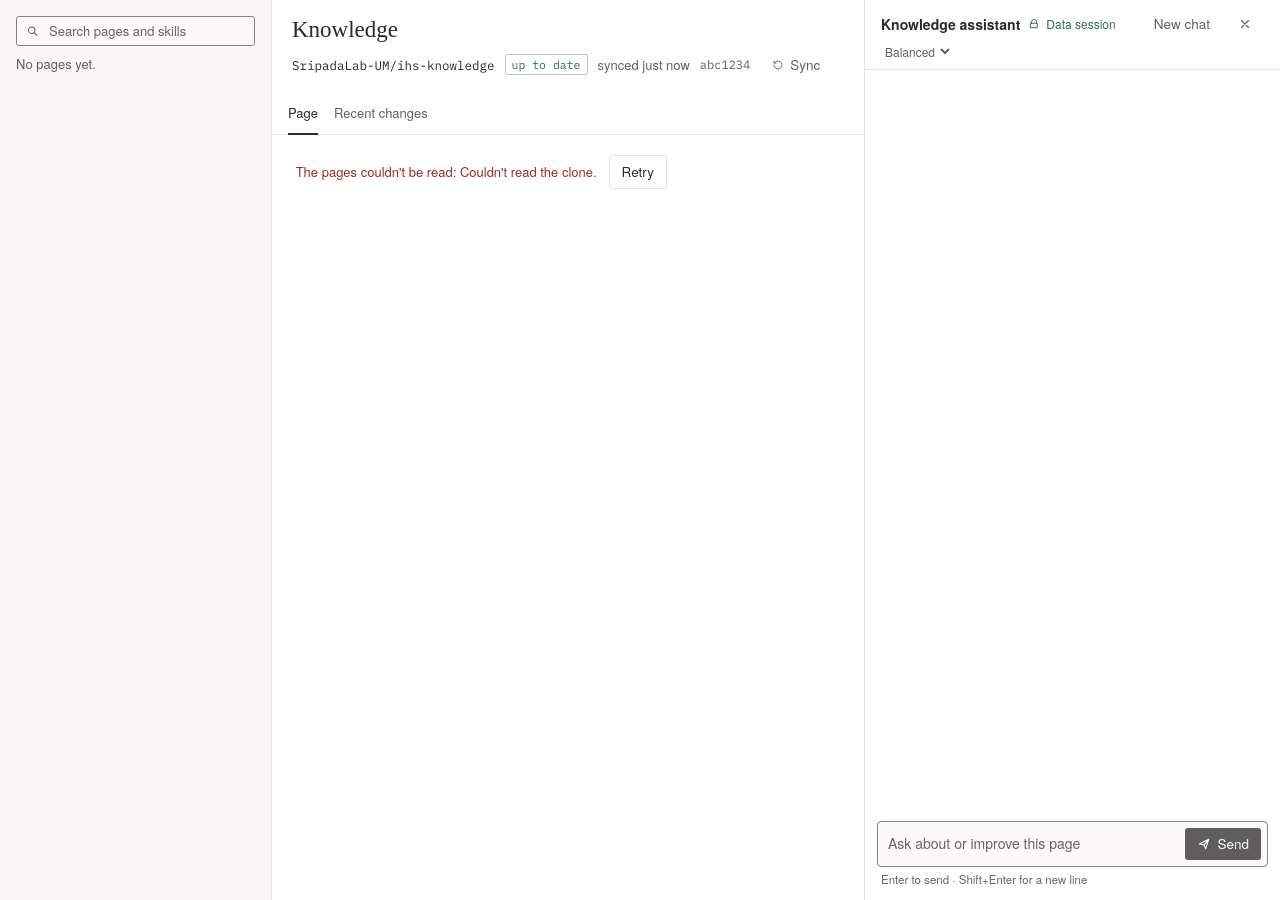
Test: says when the pages couldn't be read, and Retry reads them again
The image size is (1280, 900).
Expected: the message shows "Couldn't read the clone.", [296, 162, 597, 181]
Click the button "Retry": (638, 172) [609, 154, 667, 189]
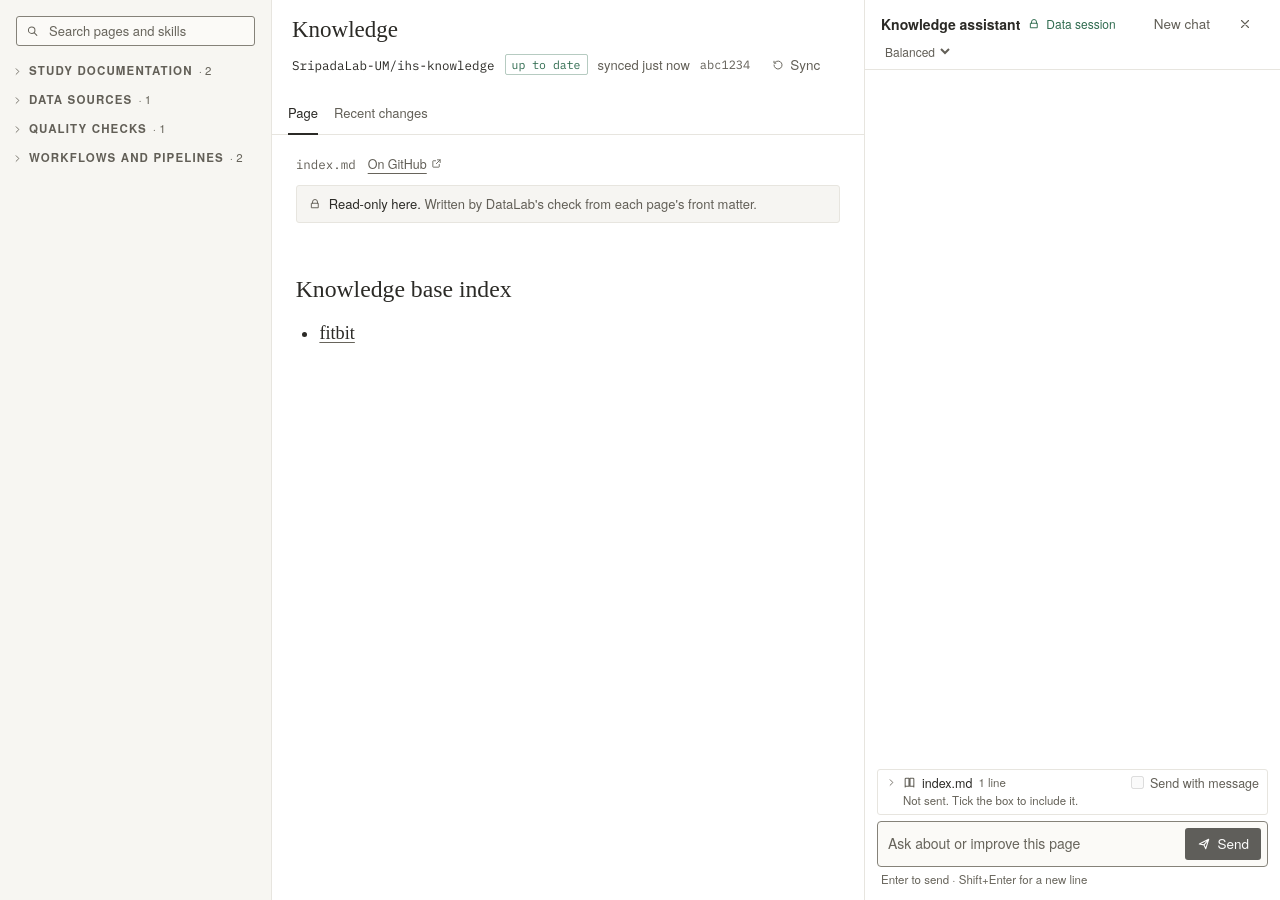
Expected: the heading "Knowledge base index" is shown, [296, 276, 512, 302]
